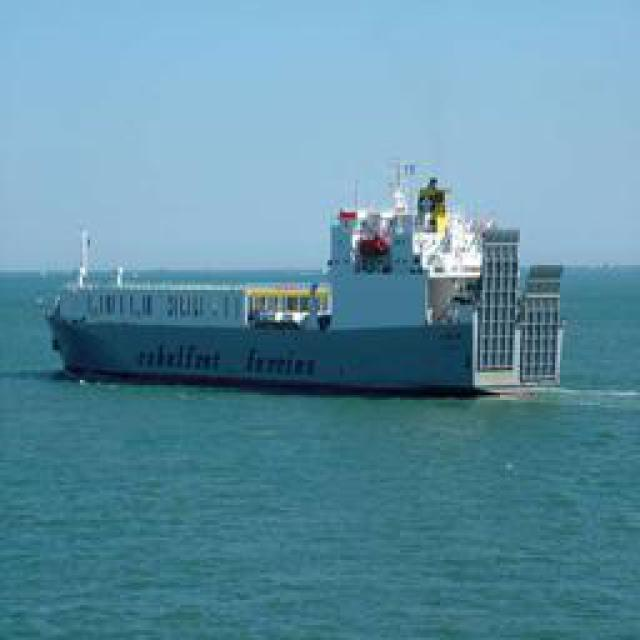Ship: (51, 152, 526, 390)
